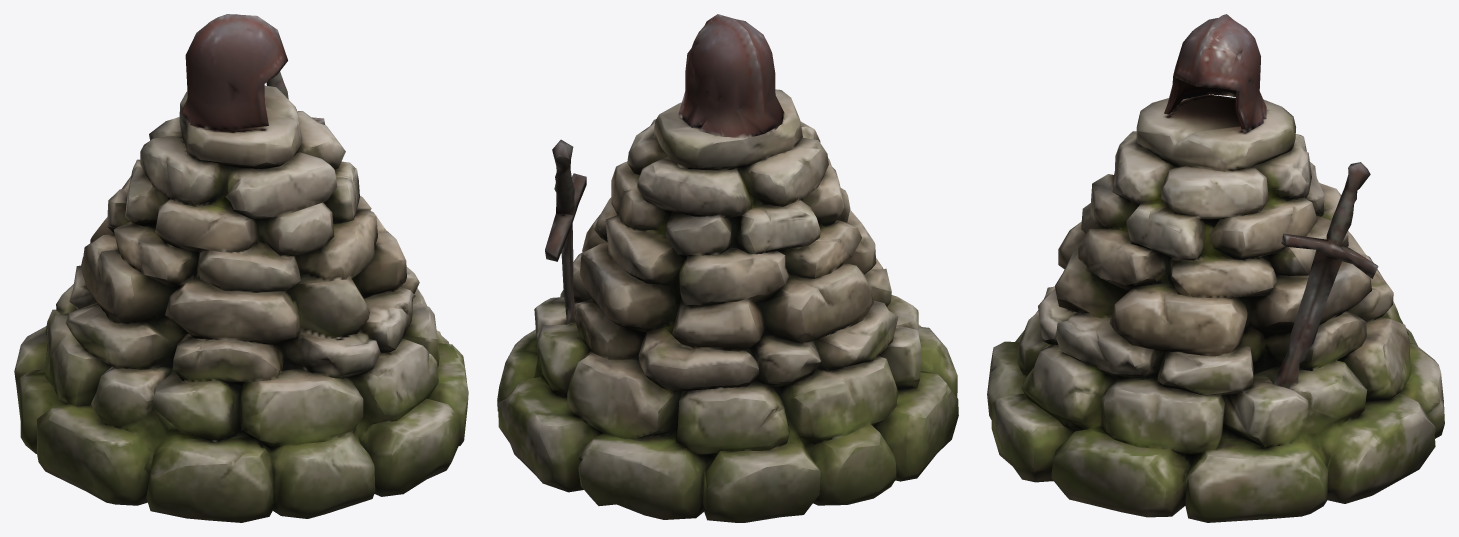
The model's file is MemorialCairn.gltf.
3 views of the same model, side by side, from view 1: azimuth 30°, elevation 25°; view 2: azimuth 150°, elevation 25°; view 3: azimuth 270°, elevation 25° (orthographic).
Parts seen in each view (by area): view 1: lo; view 2: lo; view 3: lo.
Part boxes in pixels (x1=…): lo: x1=14, y1=14, x2=468, y2=522; lo: x1=497, y1=14, x2=958, y2=522; lo: x1=987, y1=14, x2=1444, y2=522.
Size of the model in its own units: 1.55 by 1.54 by 1.55.
1 material, 1 textured.
